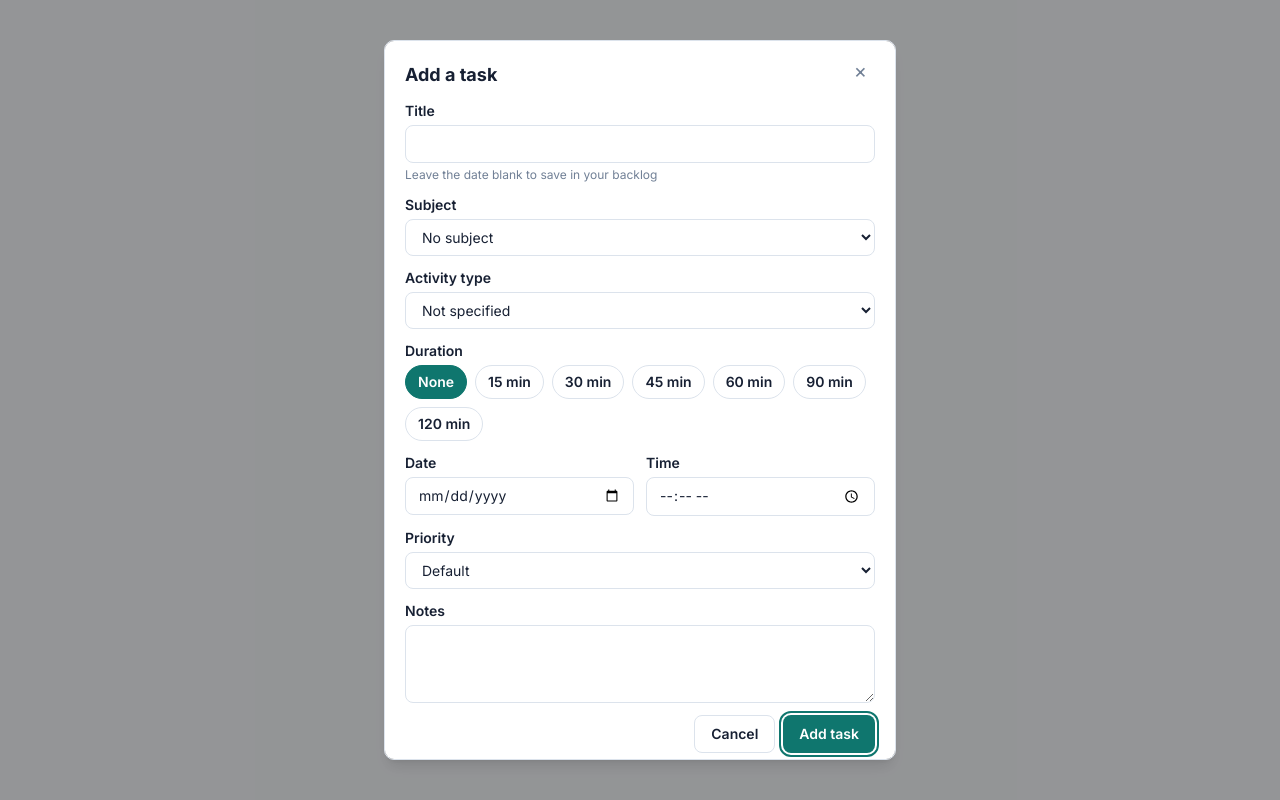
Scenario: TaskDialog › blocks submit with an empty title and shows the backlog hint
The image size is (1280, 800).
Expected: the text "Leave the date blank to save in your backlog" is shown, [405,167,657,182]
Click the button "Add task".
click(829, 734)  # box [783,715,875,753]
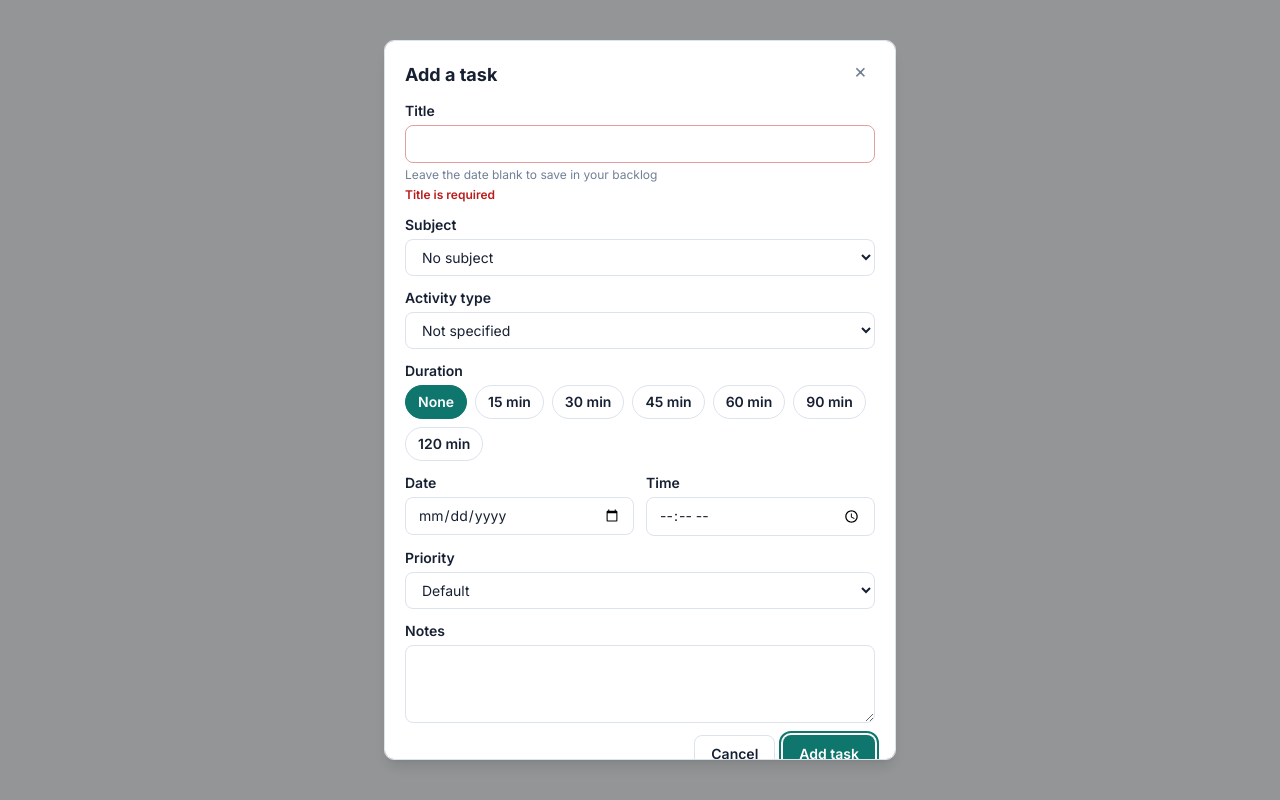
Expected: the message reads "Title is required", [405,187,495,202]
